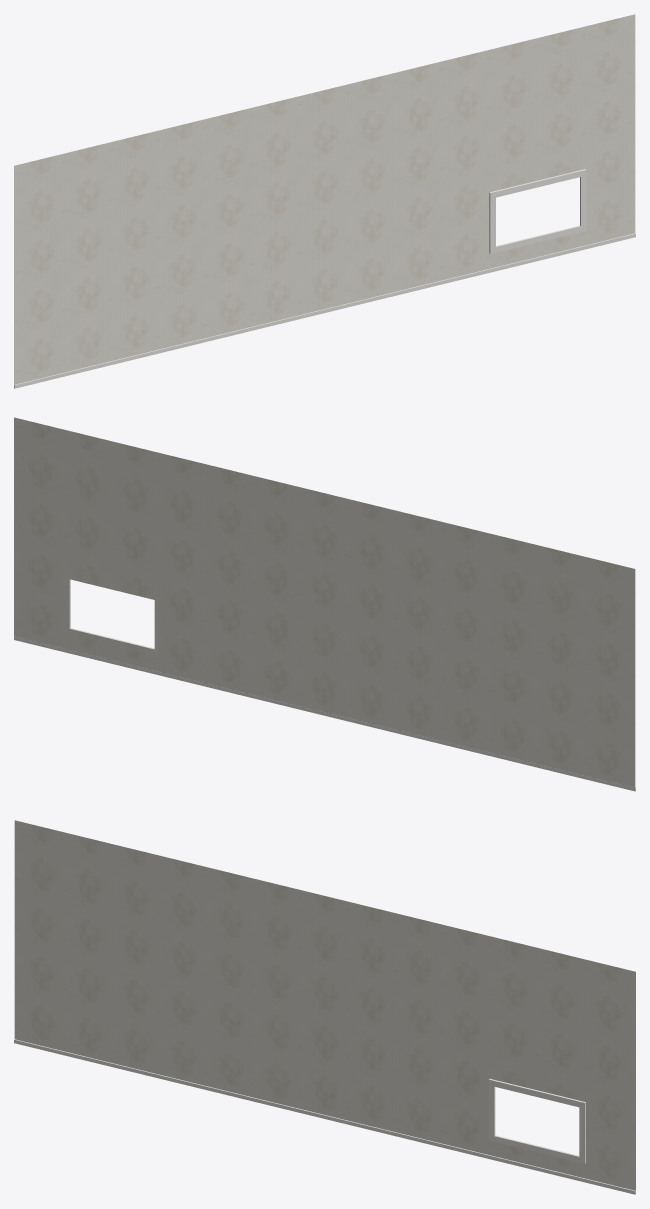
3 renders of one model, top to bottom at view 1: azimuth 30°, elevation 25°; view 2: azimuth 150°, elevation 25°; view 3: azimuth 330°, elevation 25°, orthographic.
Parts seen in each view (by area): view 1: jx_wm_26_7e8d0a87; view 2: jx_wm_26_7e8d0a87; view 3: jx_wm_26_7e8d0a87.
Boxes of the visible parts, <box> form: jx_wm_26_7e8d0a87: <box>14,14,635,388</box>; jx_wm_26_7e8d0a87: <box>14,417,635,791</box>; jx_wm_26_7e8d0a87: <box>14,820,635,1194</box>.
Bounding box in the file's own units: 26.3 × 9 × 0.086.
Materials: 2 (2 with a texture image).
